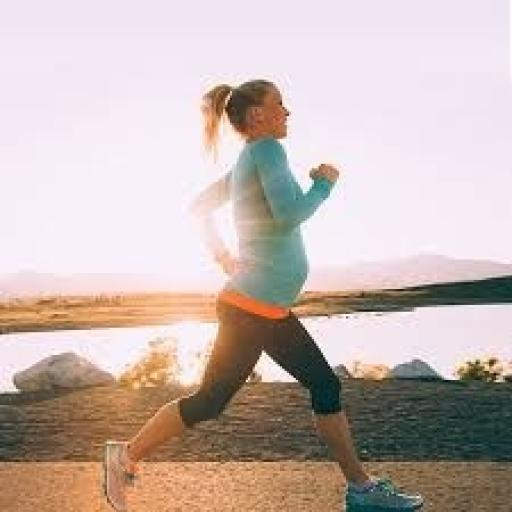running: (98, 75, 428, 510)
